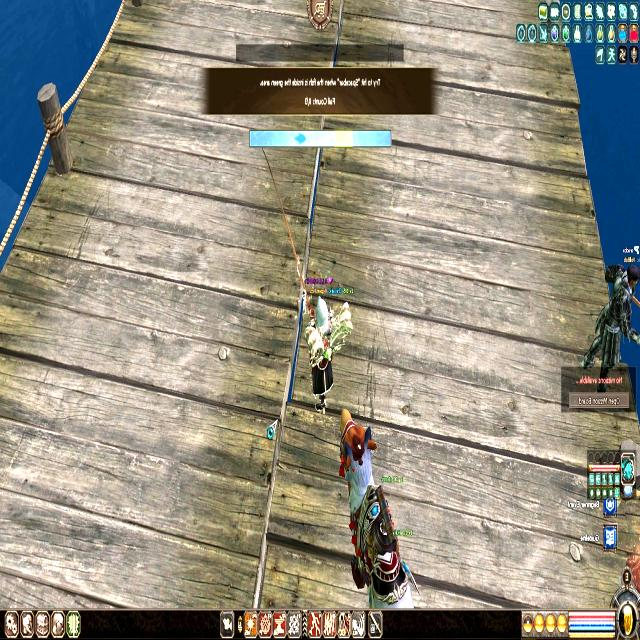fishes: (295, 132, 307, 146)
